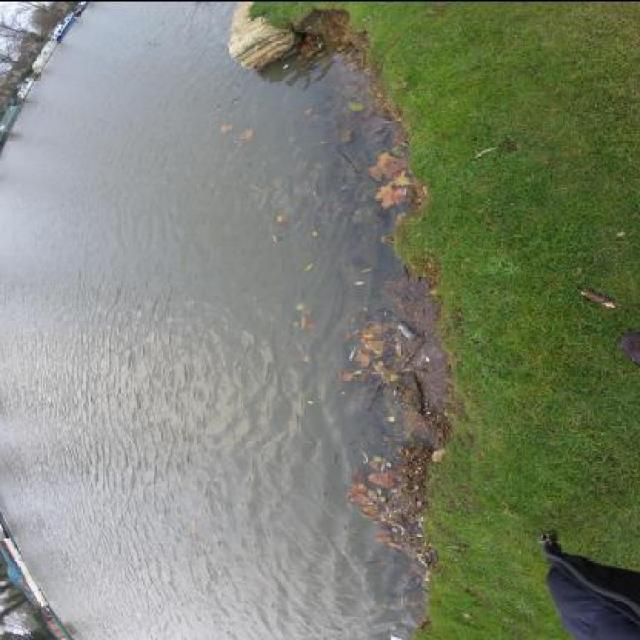glass: (387, 309, 421, 340)
